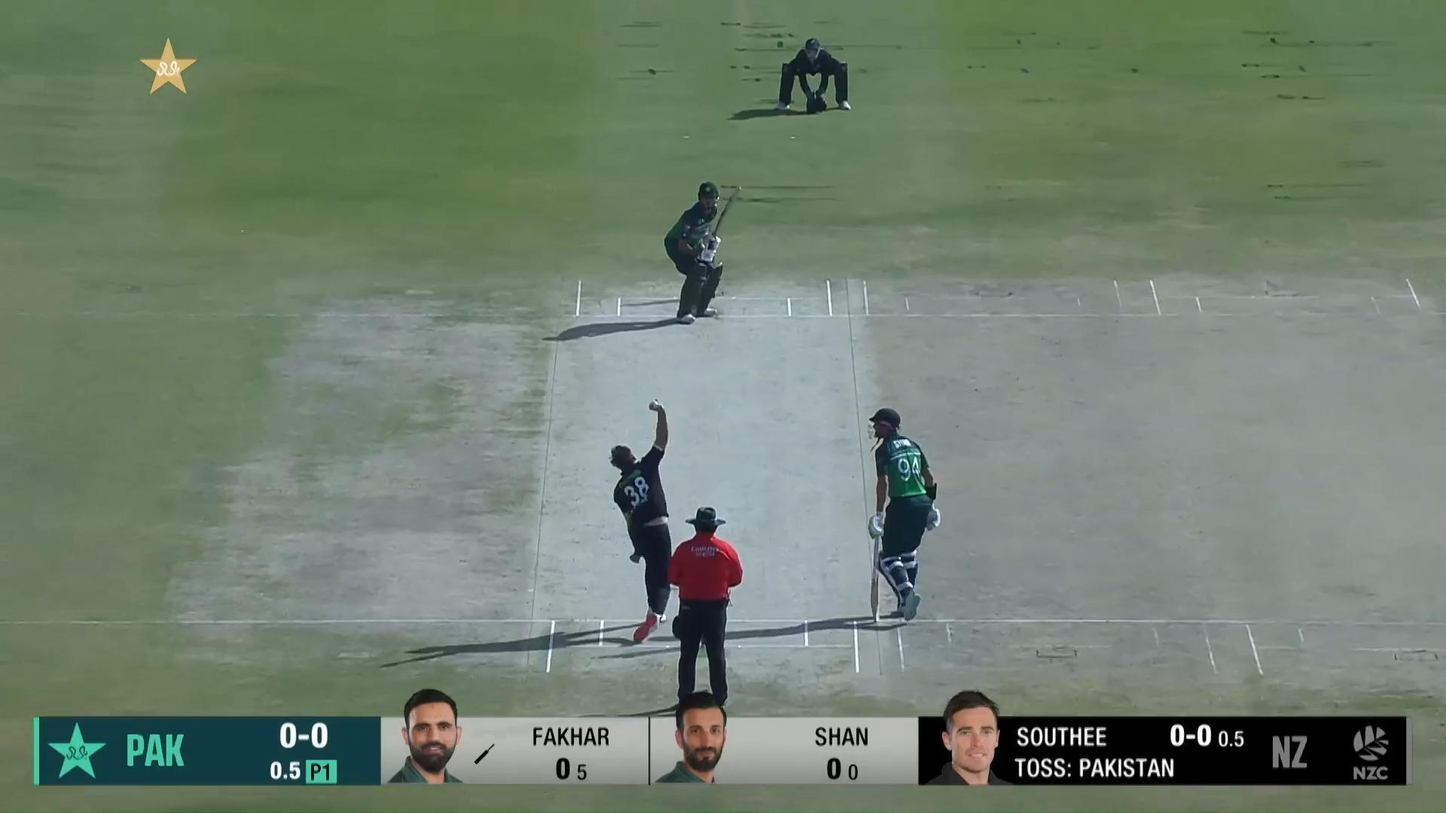BM 1: (664, 181, 742, 324)
BO: (610, 398, 673, 644)
